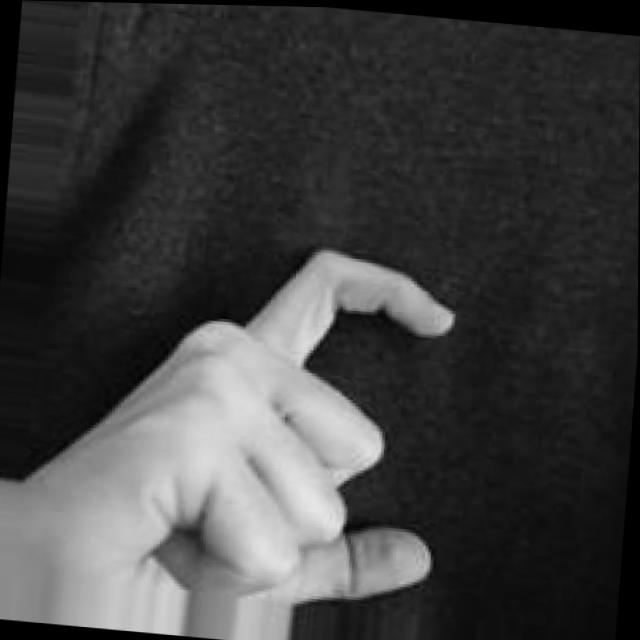C: (50, 224, 462, 632)
